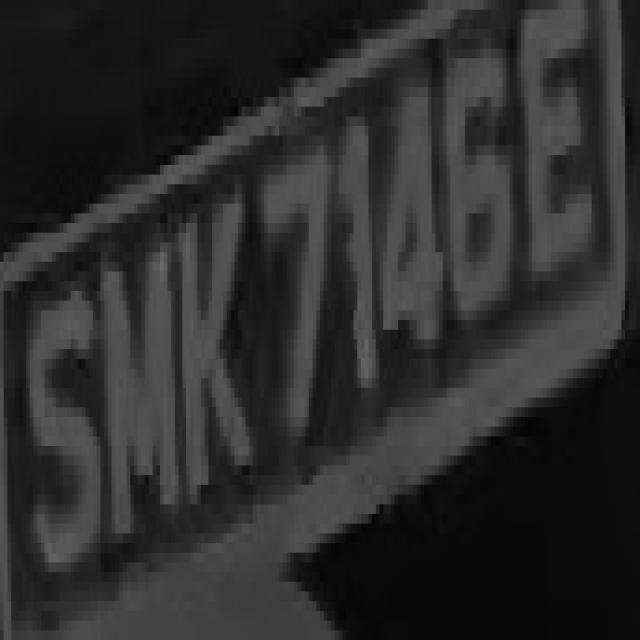1: (342, 68, 380, 436)
4: (364, 48, 442, 417)
6: (436, 29, 518, 339)
7: (242, 126, 327, 475)
E: (521, 10, 606, 310)
K: (164, 155, 242, 514)
M: (93, 184, 182, 553)
S: (15, 252, 104, 592)
